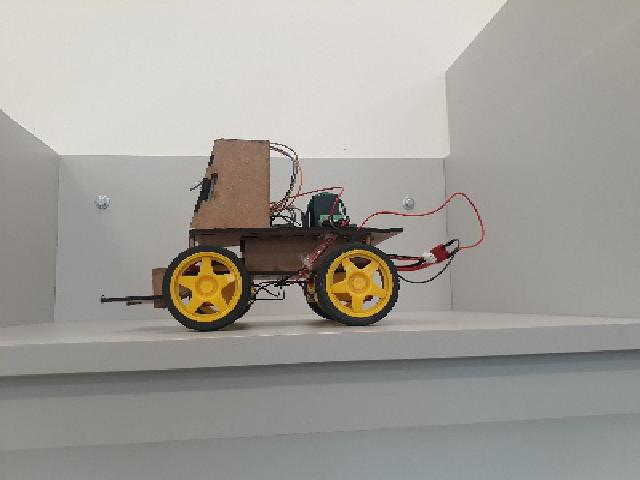Robot: (99, 137, 405, 329)
